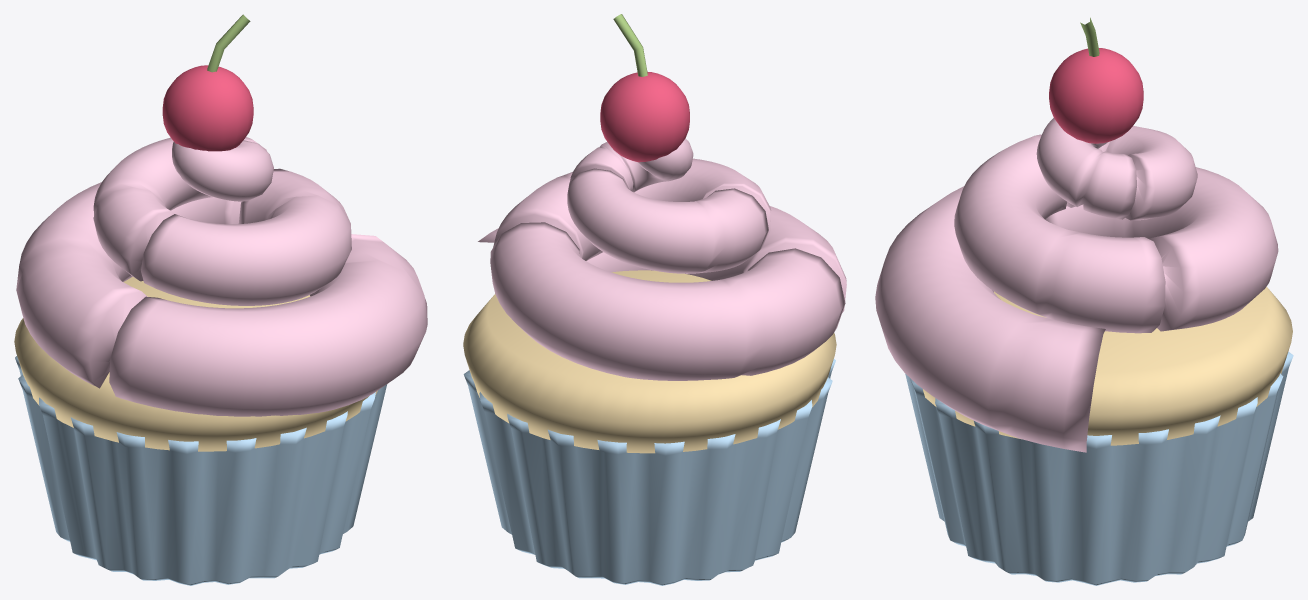
The model's file is CakeCupcake.glb.
3 views of the same model, side by side, from view 1: azimuth 30°, elevation 25°; view 2: azimuth 150°, elevation 25°; view 3: azimuth 270°, elevation 25° (orthographic). The views are drawn at different scales.
Parts seen in each view (by area): view 1: Frosting, Wrapper, Sponge, Cherry, Stem; view 2: Frosting, Wrapper, Sponge, Cherry, Stem; view 3: Frosting, Wrapper, Sponge, Cherry.
Part boxes in pixels (x1=…): Frosting: x1=16, y1=137, x2=427, y2=416; Wrapper: x1=15, y1=356, x2=387, y2=585; Sponge: x1=14, y1=277, x2=377, y2=451; Cherry: x1=162, y1=65, x2=253, y2=151; Stem: x1=207, y1=14, x2=250, y2=72; Frosting: x1=478, y1=138, x2=846, y2=380; Wrapper: x1=463, y1=359, x2=835, y2=585; Sponge: x1=463, y1=270, x2=836, y2=453; Cherry: x1=600, y1=71, x2=689, y2=162; Stem: x1=613, y1=14, x2=647, y2=76; Frosting: x1=875, y1=118, x2=1278, y2=452; Wrapper: x1=905, y1=352, x2=1293, y2=585; Sponge: x1=923, y1=286, x2=1292, y2=445; Cherry: x1=1049, y1=48, x2=1143, y2=143.
Bounding box in the file's own units: 3.86 × 5.09 × 3.66.
